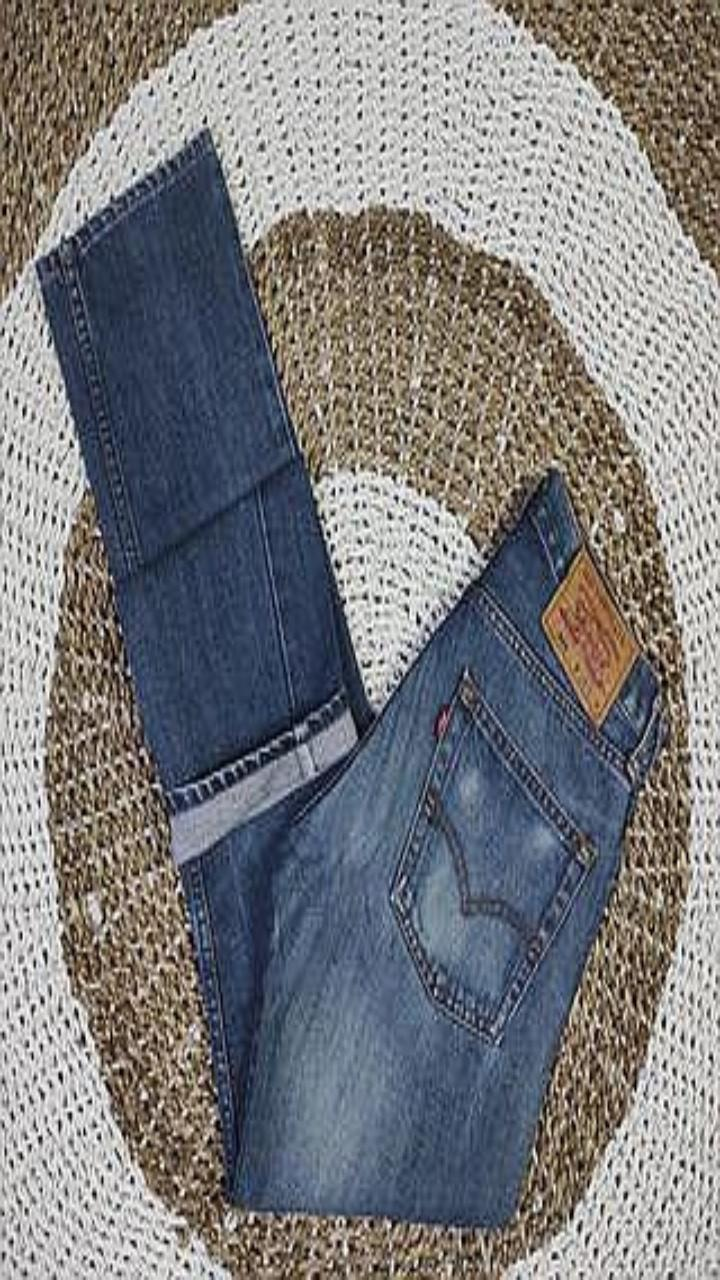Jeans: (37, 131, 663, 1225)
